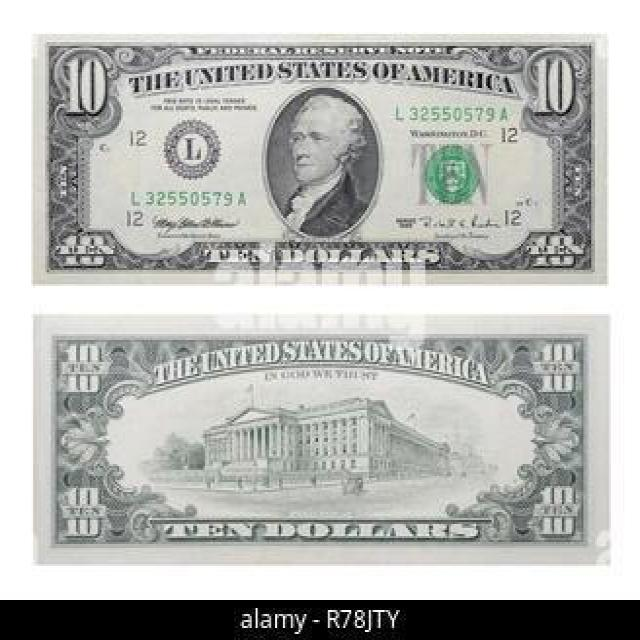10-Back: (31, 316, 611, 560)
10-Front: (33, 34, 609, 290)
